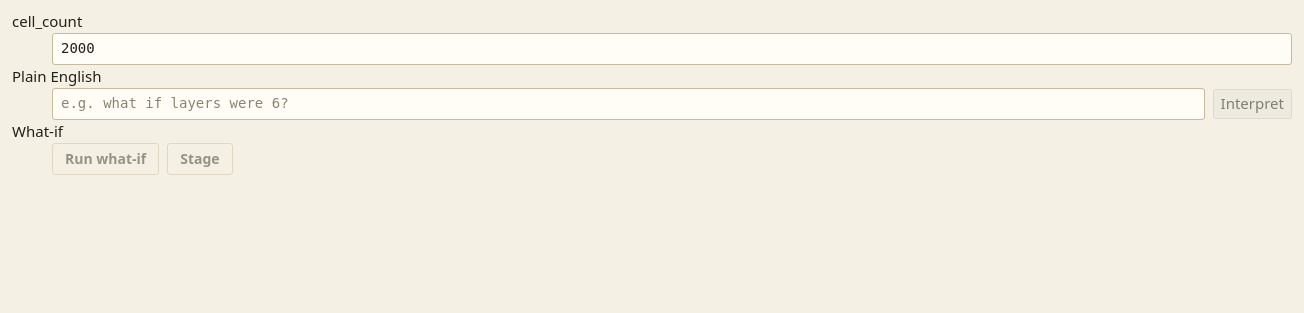
it: WhatIfEditor › edits stated settings and shows the grounded estimate
Expected: the button "Run what-if" is disabled, x1=52 y1=143 x2=159 y2=175
Replace the text in the field named "cell_count" with "5000" at (672, 49), box x1=52 y1=33 x2=1292 y2=65
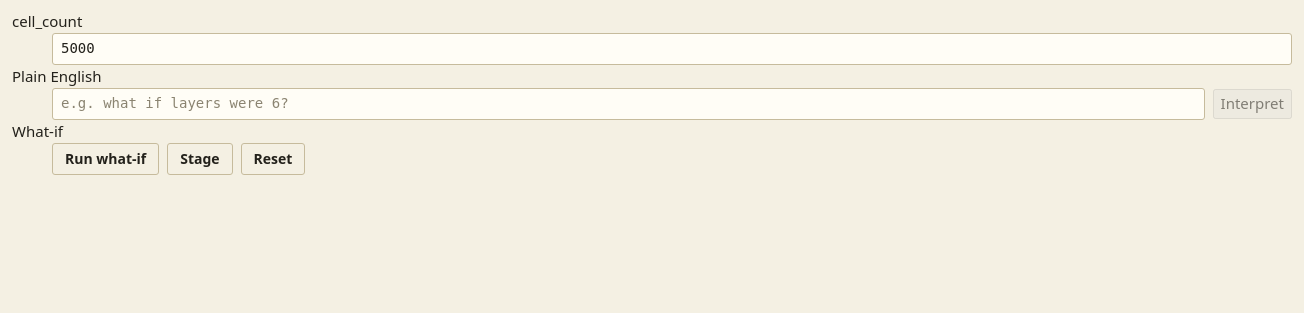
Now the button "Run what-if" is enabled
Click the button "Run what-if" at (106, 159), box x1=52 y1=143 x2=159 y2=175
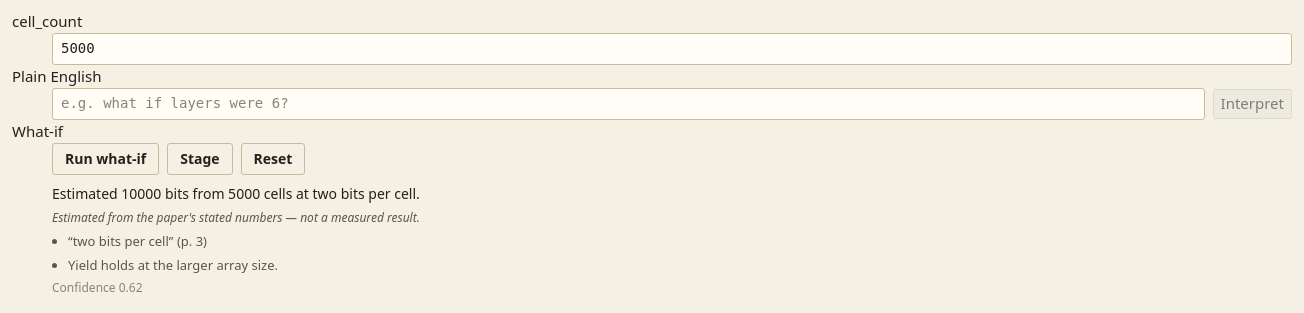
Now the text "Estimated 10000 bits from 5000 cells at two bits per cell." is shown, box x1=52 y1=184 x2=420 y2=203
Now the text "not a measured result" is shown, box x1=52 y1=208 x2=420 y2=226
Now the text "Estimated 10000 bits from 5000 cells at two bits per cell." is shown 2 times, box x1=52 y1=184 x2=420 y2=203; x1=68 y1=232 x2=207 y2=250
